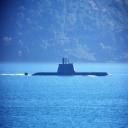submarine: (25, 57, 113, 78)
